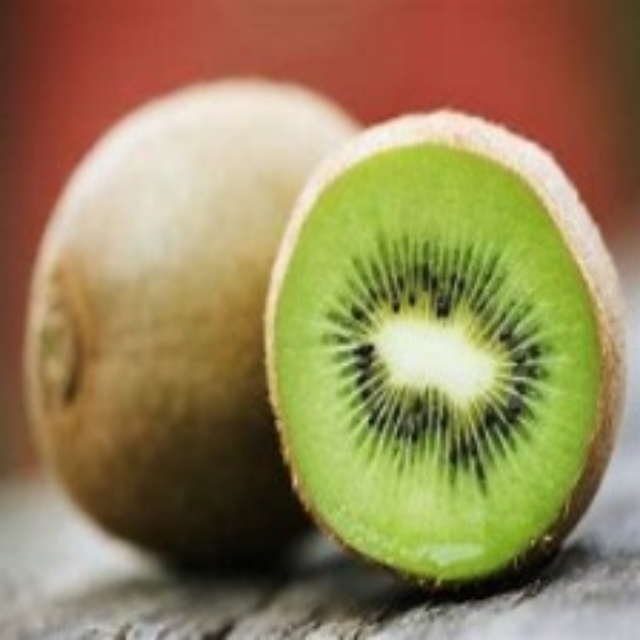kiwi: (276, 114, 629, 587), (27, 83, 354, 570)
